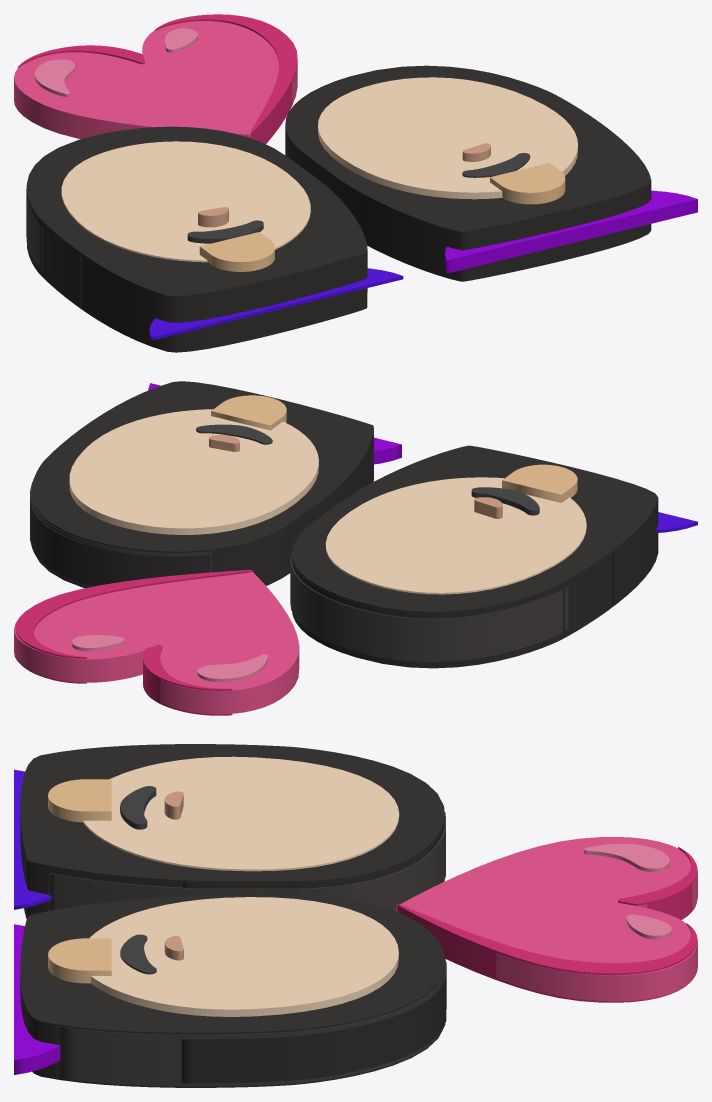
File: emoji_u1f469_1f3fb_200d_2764_200d_1f469_1f3fb.glb
3 views of the same model, one above another, from view 1: azimuth 30°, elevation 25°; view 2: azimuth 150°, elevation 25°; view 3: azimuth 270°, elevation 25° (orthographic). The views are drawn at different scales.
Parts seen in each view (by area): view 1: emoji_u1f469_1f3fb_200d_2764_200d_1f469_1f3fb; view 2: emoji_u1f469_1f3fb_200d_2764_200d_1f469_1f3fb; view 3: emoji_u1f469_1f3fb_200d_2764_200d_1f469_1f3fb.
Boxes of the visible parts, x1,y1,x2,y2 form: emoji_u1f469_1f3fb_200d_2764_200d_1f469_1f3fb: [14, 14, 697, 352]; emoji_u1f469_1f3fb_200d_2764_200d_1f469_1f3fb: [14, 381, 697, 715]; emoji_u1f469_1f3fb_200d_2764_200d_1f469_1f3fb: [14, 744, 697, 1087].
Bounding box in the file's own units: 0.0346 × 0.005 × 0.0337.
